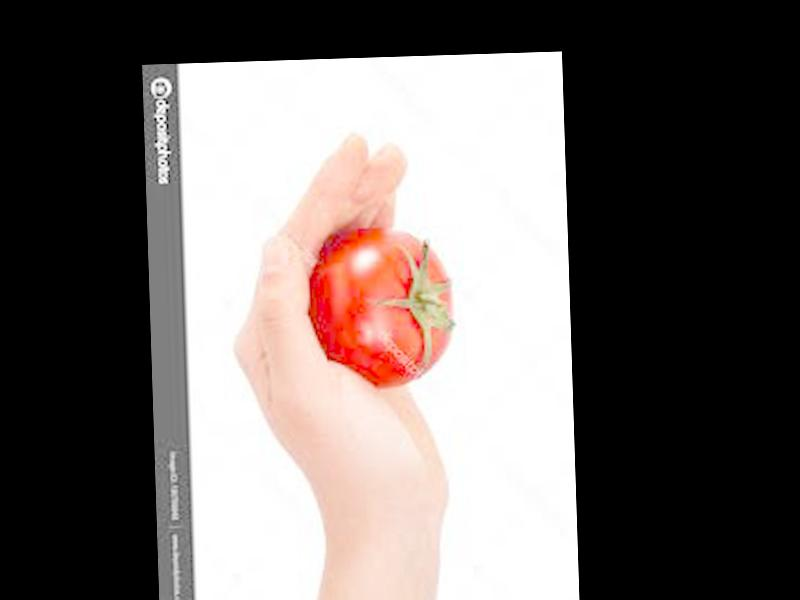Tomato: (309, 230, 454, 392)
